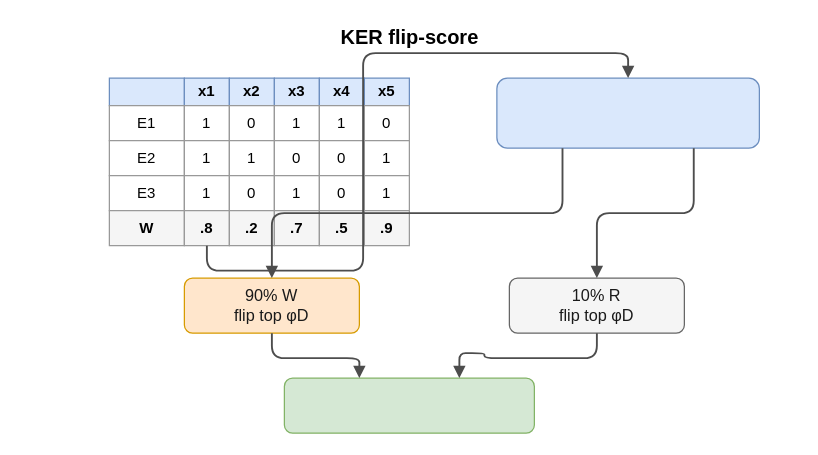
The diagram is 818 pixels wide and 455 high, and some of its shapes have lost their labels. The centre of each missing label's shape, as x and y in pixels:
elite: the point at 146,91
Re-evaluate; keep if f improves: the point at 408,405
σ_j=+W_j if x_j=0 σ_j=-W_j if x_j=1: the point at 627,112
